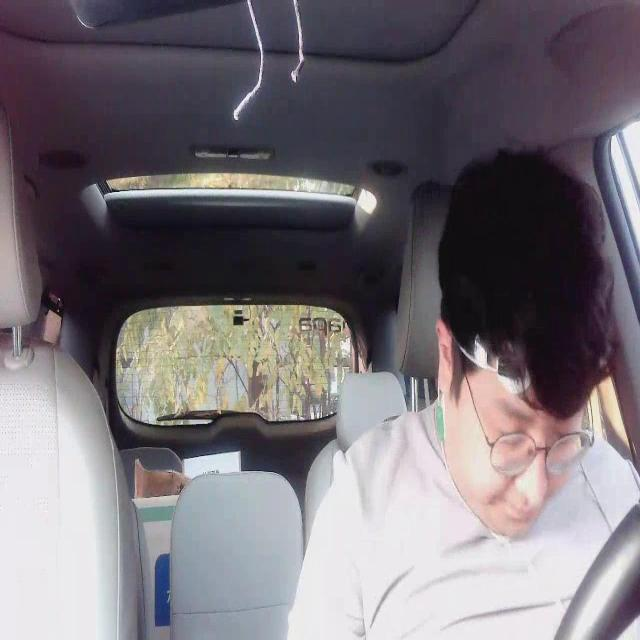Inattentive: (434, 142, 620, 530)
